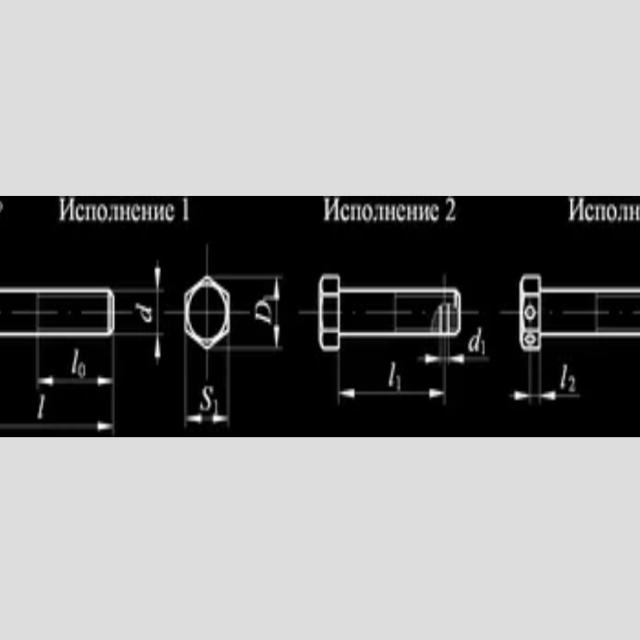marking_line: (1, 339, 117, 435), (336, 354, 449, 407), (117, 260, 166, 366), (35, 338, 117, 390), (182, 350, 233, 429), (232, 275, 282, 352), (538, 354, 581, 403), (116, 330, 164, 367), (115, 260, 164, 296), (509, 353, 533, 404), (447, 338, 489, 366), (414, 337, 445, 366)
numeric: (446, 197, 457, 221), (181, 199, 190, 222), (568, 374, 577, 393), (397, 372, 402, 392), (481, 339, 486, 355)
